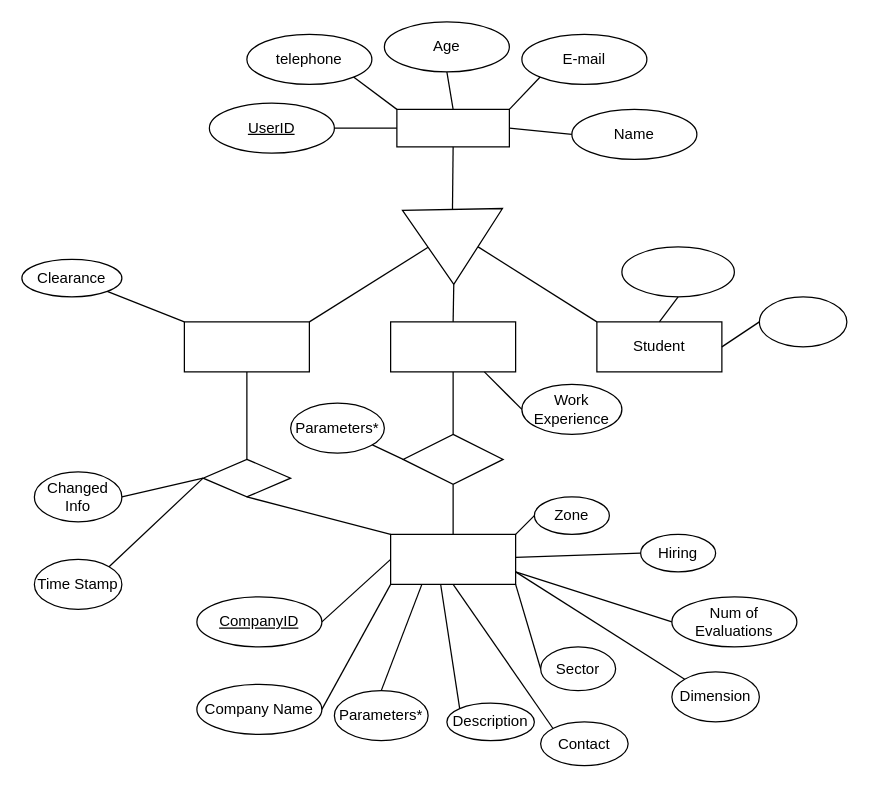
This 869x788 diagram has some shape labels left out. The shapes that lost their labels are listed below. From the top down, each one's centre as x and y in pixels, then its label:
At (x=452, y=127): "User".
At (x=452, y=246): "ISA".
At (x=677, y=271): "Master Specialization".
At (x=802, y=321): "year in MEMec".
At (x=246, y=346): "Organization".
At (x=452, y=346): "Alumni".
At (x=246, y=477): "Manages".
At (x=452, y=458): "Evaluate".
At (x=452, y=558): "Company".
